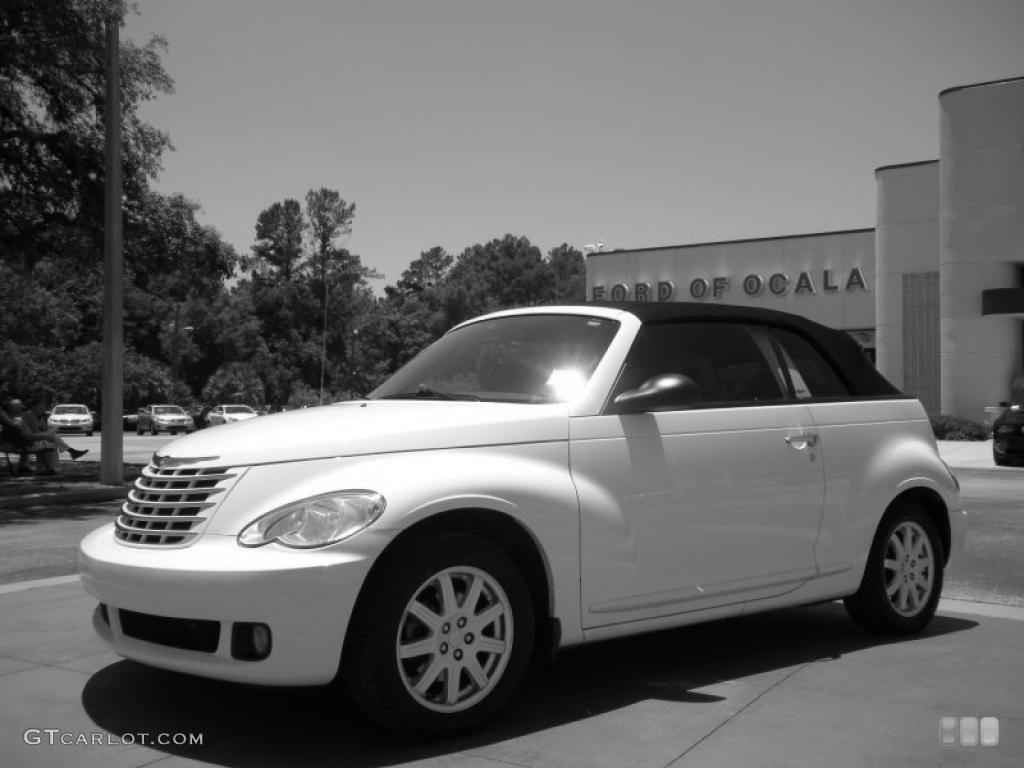car: (74, 299, 973, 744)
